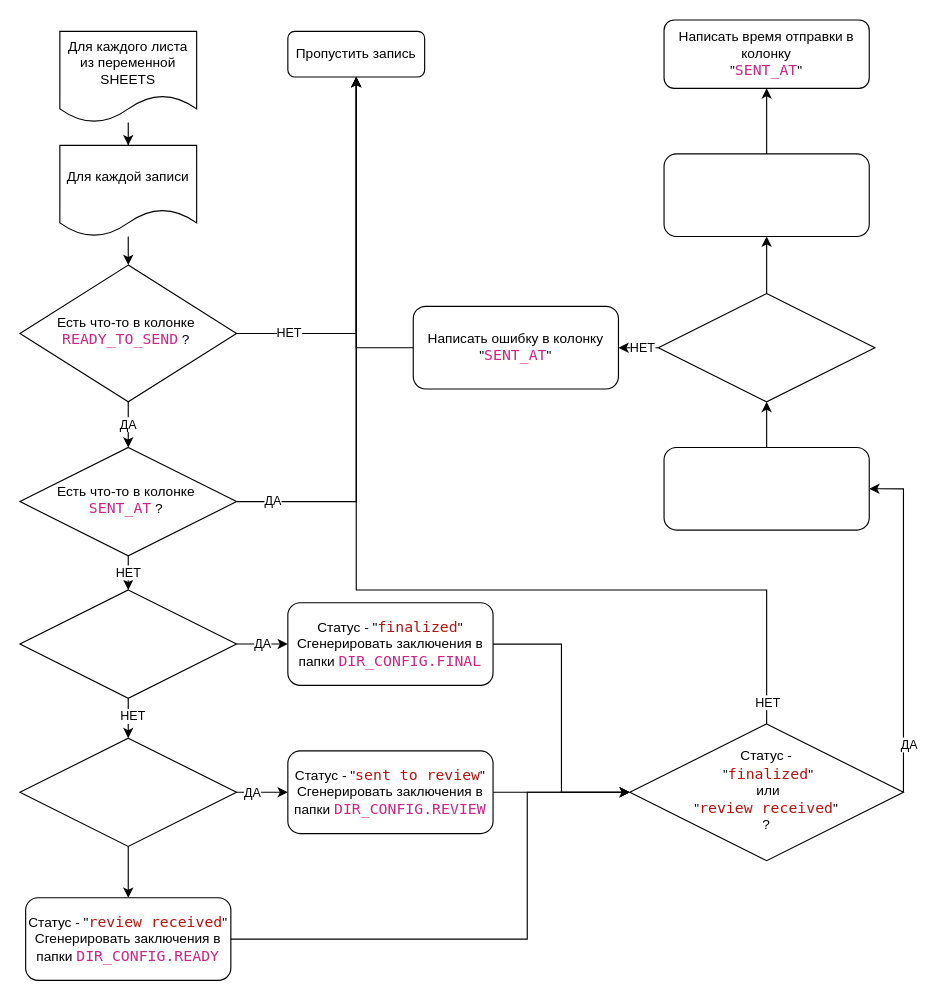
This 937x1001 diagram has some shape labels left out. The box of each missing label's shape, as (x1, y1, x2, y2) in pixels:
Адреса найдены?: (657, 292, 875, 402)
В колонке NSPC_DIAGNOSIS написано "пересмотр"?: (19, 737, 237, 846)
Колонка NSPC_DIAGNOSIS пуста?: (19, 589, 237, 698)
Найти адреса получателей в переменной EMAILS: (663, 446, 869, 530)
Отправить письма: (663, 153, 869, 237)
